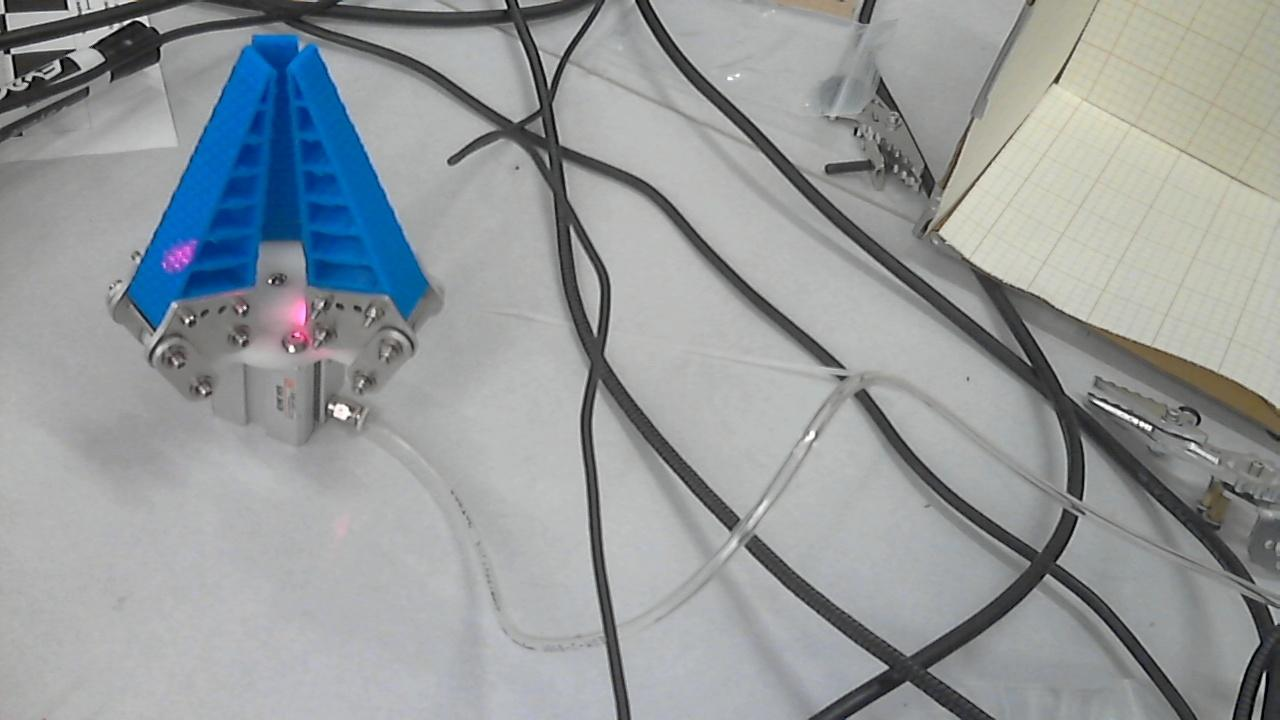Object robotic gripper finger assembly - Material plastic - Color blue - Pdfname: (153, 226, 211, 287), (280, 278, 329, 347)
